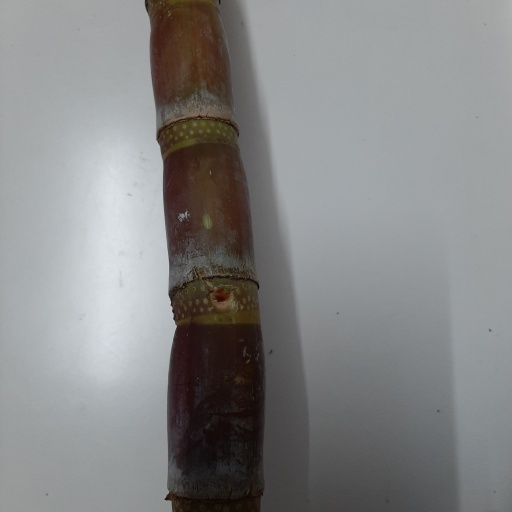Damage_Bud: (208, 283, 232, 311)
